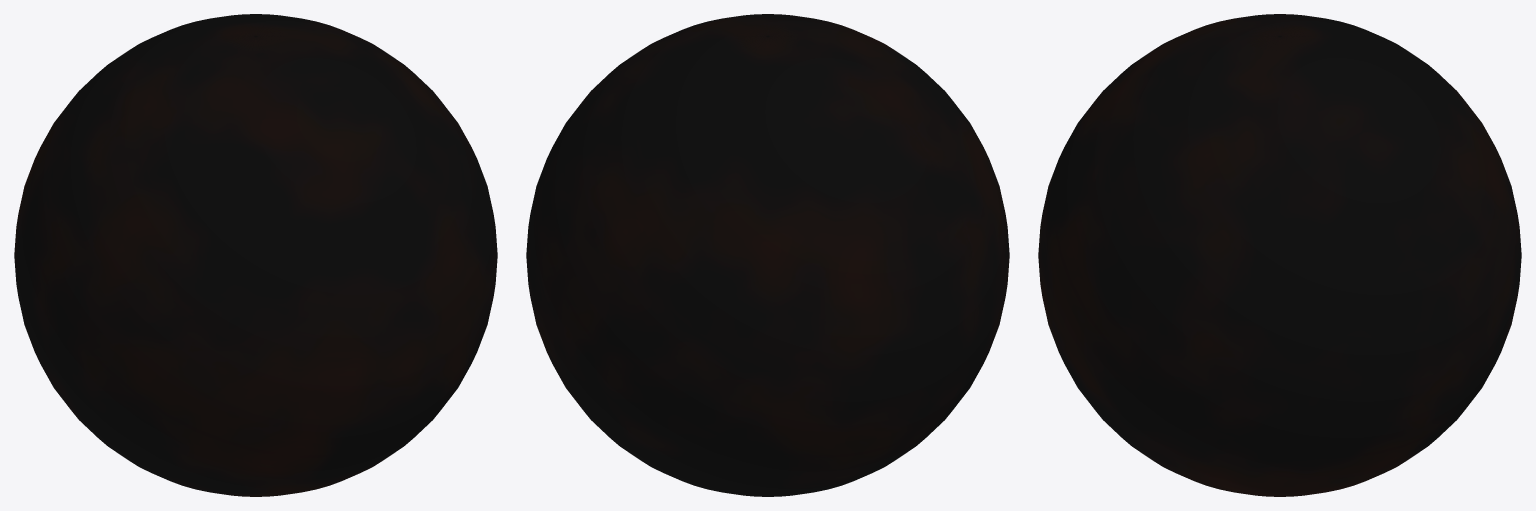
Rendered from planet.glb.
3 views of the same model, side by side, from view 1: azimuth 30°, elevation 25°; view 2: azimuth 150°, elevation 25°; view 3: azimuth 270°, elevation 25° (orthographic).
Parts seen in each view (by area): view 1: Sphere; view 2: Sphere; view 3: Sphere.
Part boxes in pixels (left/top/right/bottom): Sphere: left=14, top=14, right=497, bottom=496; Sphere: left=526, top=14, right=1009, bottom=496; Sphere: left=1038, top=14, right=1521, bottom=496.
Size of the model in its own units: 2 by 2 by 2.
Materials: 1 (1 with a texture image).
